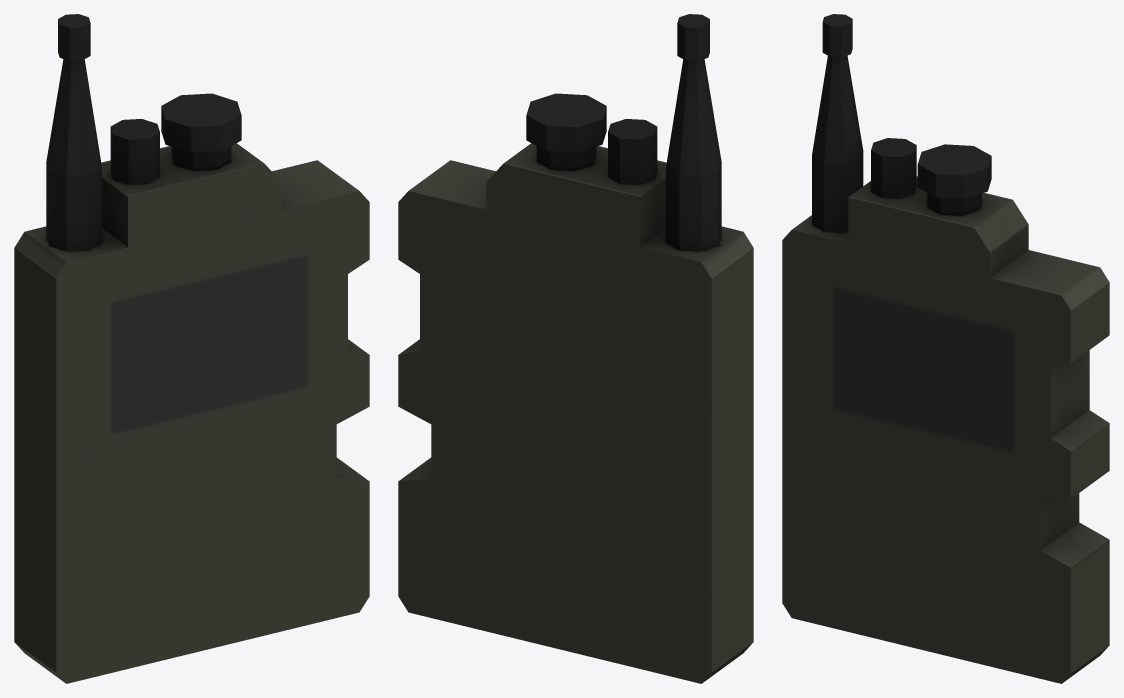
The model's file is GPS_Beacon.fbx.
3 renders of one model, left to right at view 1: azimuth 30°, elevation 25°; view 2: azimuth 150°, elevation 25°; view 3: azimuth 330°, elevation 25°, orthographic. The views are drawn at different scales.
Visible parts, largest first — view 1: GPS_Beacon; view 2: GPS_Beacon; view 3: GPS_Beacon.
Part boxes in pixels (x1=…): GPS_Beacon: x1=14, y1=14, x2=369, y2=683; GPS_Beacon: x1=398, y1=14, x2=753, y2=683; GPS_Beacon: x1=782, y1=14, x2=1109, y2=683.
Bounding box in the file's own units: 3.53 × 6.88 × 0.8175.
